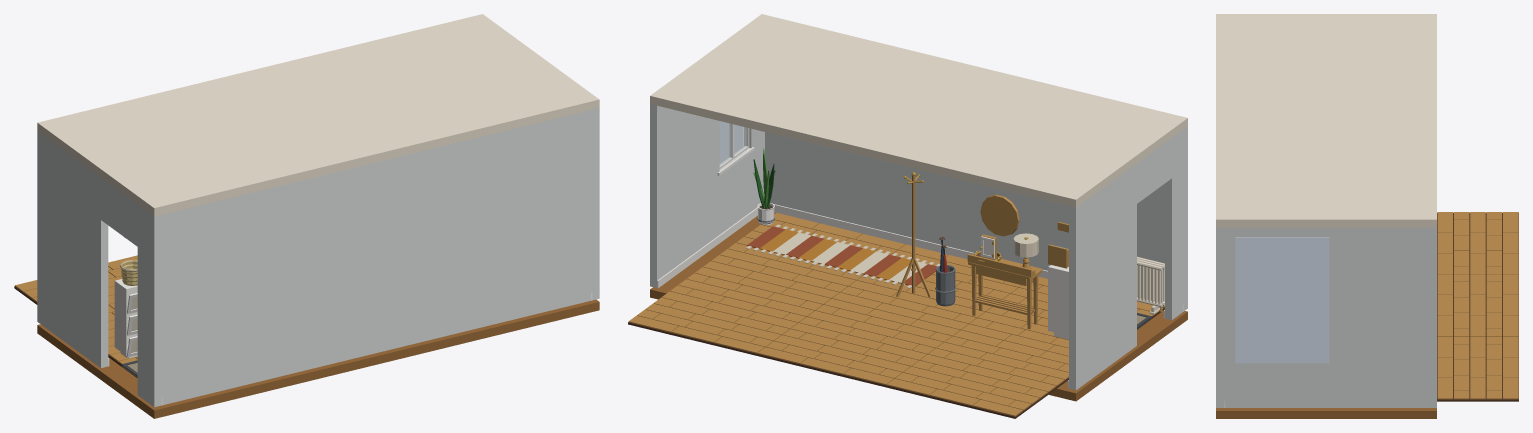
The model's file is SM_LPI_Room_Hall.fbx.
3 views of the same model, side by side, from view 1: azimuth 30°, elevation 25°; view 2: azimuth 150°, elevation 25°; view 3: azimuth 270°, elevation 25° (orthographic). The views are drawn at different scales.
Visible parts, largest first — view 1: SM_LPI_Room_Hall, SM_LPI_Storage_ShoeCabinet_01.001, SM_LPI_Floor_PlankOak_03.002; view 2: SM_LPI_Room_Hall, SM_LPI_Floor_PlankOak_03.004, SM_LPI_Floor_PlankOak_03.006, SM_LPI_Floor_PlankOak_03.002, SM_LPI_Floor_PlankOak_03.005, SM_LPI_Floor_PlankOak_03.003, SM_LPI_Text_RugRunner_01.001, SM_LPI_Floor_PlankOak_03.001, SM_LPI_Table_Hall_01.001, SM_LPI_Storage_ShoeCabinet_01.001, SM_LPI_Util_ColumnRad_01.001, SM_LPI_Decor_Mirror_01.001 (+6 smaller); view 3: SM_LPI_Room_Hall, SM_LPI_Room_HallGlass, SM_LPI_Floor_PlankOak_03.006, SM_LPI_Floor_PlankOak_03.004, SM_LPI_Floor_PlankOak_03.002.
Boxes of the visible parts, left/top/right/bottom form: SM_LPI_Room_Hall: left=37, top=14, right=599, bottom=418; SM_LPI_Storage_ShoeCabinet_01.001: left=114, top=279, right=137, bottom=358; SM_LPI_Floor_PlankOak_03.002: left=14, top=255, right=137, bottom=338; SM_LPI_Room_Hall: left=650, top=14, right=1187, bottom=401; SM_LPI_Floor_PlankOak_03.004: left=757, top=298, right=960, bottom=387; SM_LPI_Floor_PlankOak_03.006: left=628, top=267, right=830, bottom=355; SM_LPI_Floor_PlankOak_03.002: left=886, top=330, right=1068, bottom=418; SM_LPI_Floor_PlankOak_03.005: left=703, top=213, right=905, bottom=298; SM_LPI_Floor_PlankOak_03.003: left=832, top=244, right=1021, bottom=330; SM_LPI_Text_RugRunner_01.001: left=746, top=224, right=940, bottom=288; SM_LPI_Floor_PlankOak_03.001: left=961, top=276, right=1164, bottom=356; SM_LPI_Table_Hall_01.001: left=967, top=254, right=1042, bottom=329; SM_LPI_Storage_ShoeCabinet_01.001: left=1048, top=265, right=1068, bottom=339; SM_LPI_Util_ColumnRad_01.001: left=1137, top=256, right=1164, bottom=314; SM_LPI_Decor_Mirror_01.001: left=980, top=194, right=1019, bottom=236; SM_LPI_Room_Hall: left=1216, top=14, right=1436, bottom=418; SM_LPI_Room_HallGlass: left=1235, top=237, right=1329, bottom=363; SM_LPI_Floor_PlankOak_03.006: left=1437, top=336, right=1518, bottom=401; SM_LPI_Floor_PlankOak_03.004: left=1437, top=274, right=1518, bottom=337; SM_LPI_Floor_PlankOak_03.002: left=1437, top=212, right=1518, bottom=274.
Bounding box in the file's own units: 6.75 × 2.98 × 4.11.
